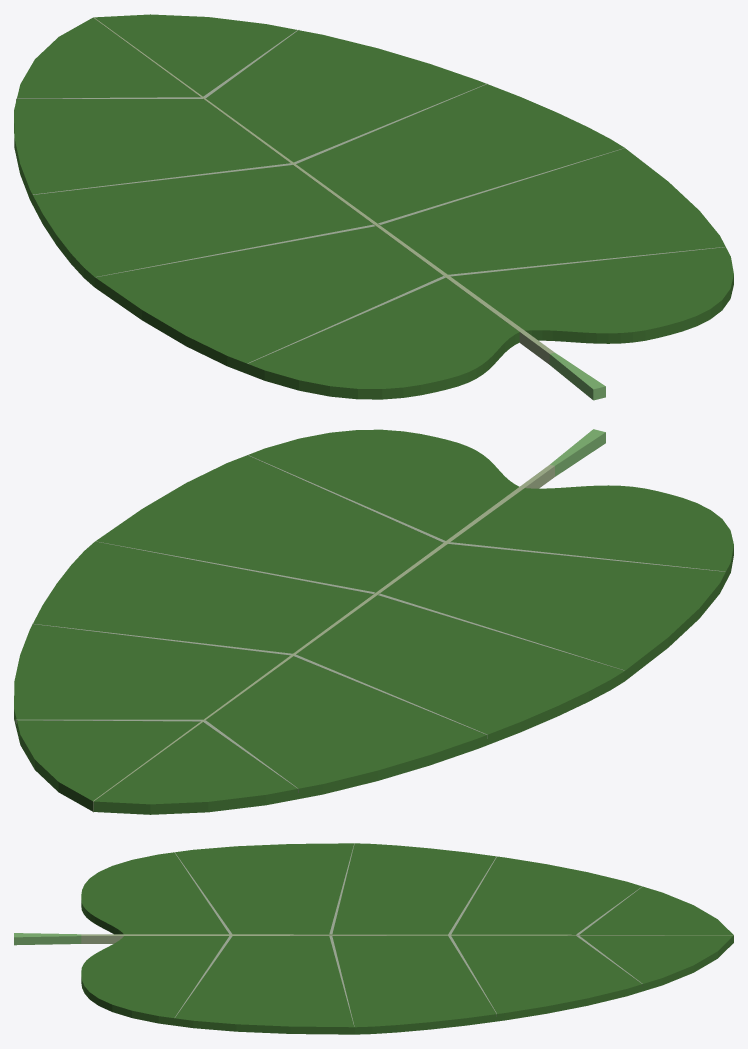
The model's file is fragileleaf.glb.
The picture shows the model from 3 angles, top to bottom: view 1: azimuth 30°, elevation 25°; view 2: azimuth 150°, elevation 25°; view 3: azimuth 270°, elevation 25°; orthographic projection. The views are drawn at different scales.
Visible parts, largest first — view 1: BézierCurve, Cube; view 2: BézierCurve, Cube; view 3: BézierCurve, Cube.
Part boxes in pixels (x1,y1,x2,y2): BézierCurve: (14,14,733,399); Cube: (93,17,605,400); BézierCurve: (14,429,733,814); Cube: (93,429,605,812); BézierCurve: (81,843,733,1034); Cube: (14,933,733,945).
Size of the model in its own units: 2 by 0.04 by 3.31.
